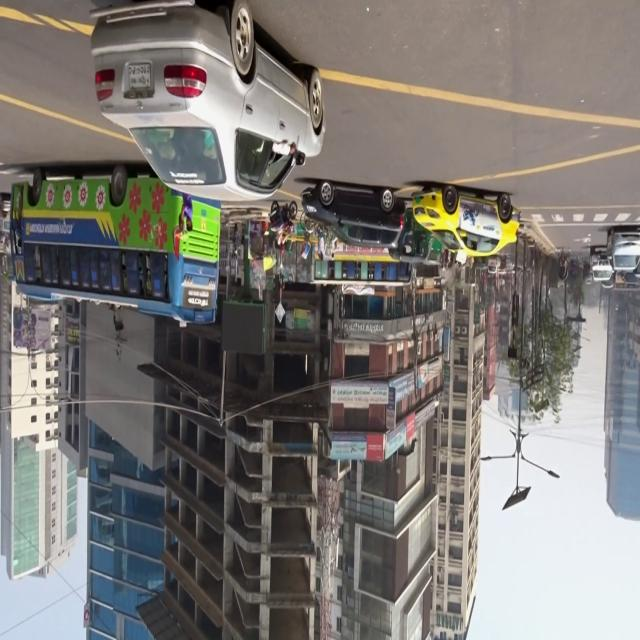black: (303, 182, 405, 248)
silver: (92, 4, 326, 207)
